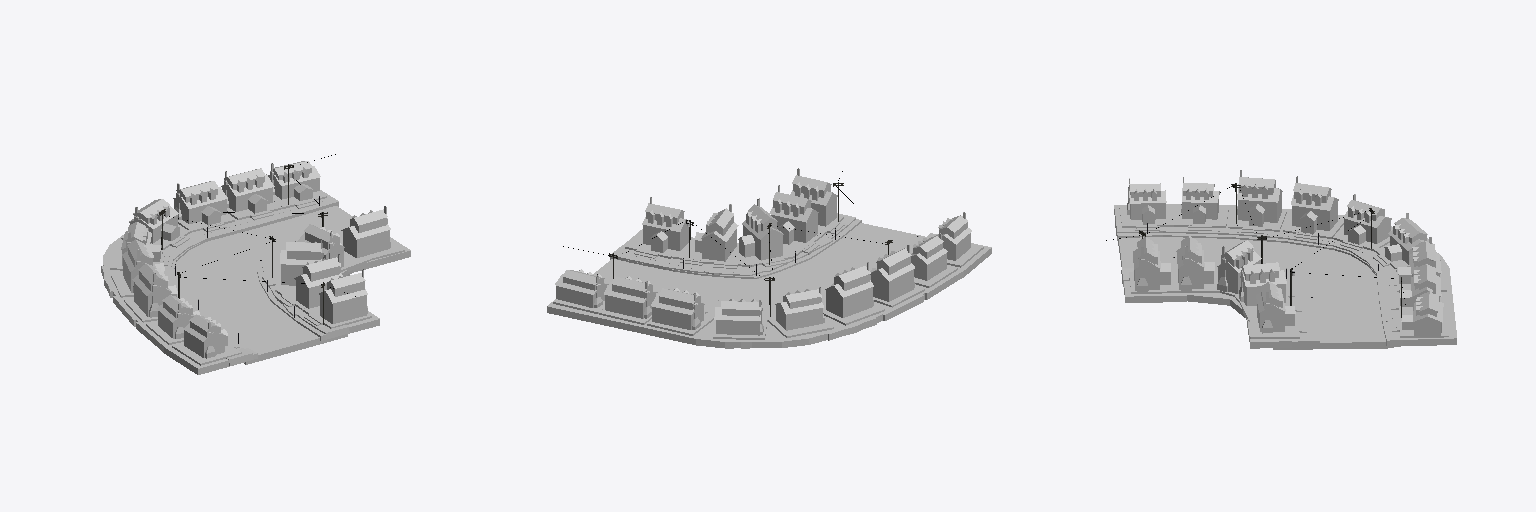
The model's file is city.obj.
The picture shows the model from 3 angles: view 1: azimuth 30°, elevation 25°; view 2: azimuth 150°, elevation 25°; view 3: azimuth 270°, elevation 25°; orthographic projection.
Visible parts, largest first — view 1: mesh01, city_block; view 2: mesh01, city_block; view 3: mesh01, city_block.
Part boxes in pixels (x1,y1,x2,y2): mesh01: (110, 161, 404, 365); city_block: (101, 190, 410, 374); mesh01: (553, 168, 983, 339); city_block: (547, 213, 991, 348); mesh01: (1119, 170, 1448, 338); city_block: (1114, 204, 1456, 349).
Size of the model in its own units: 79.2 by 14.4 by 84.49.